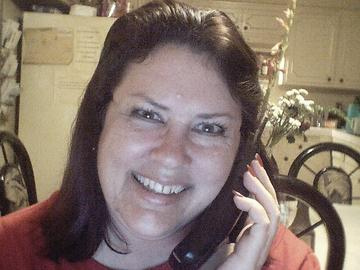person: (1, 1, 323, 270)
